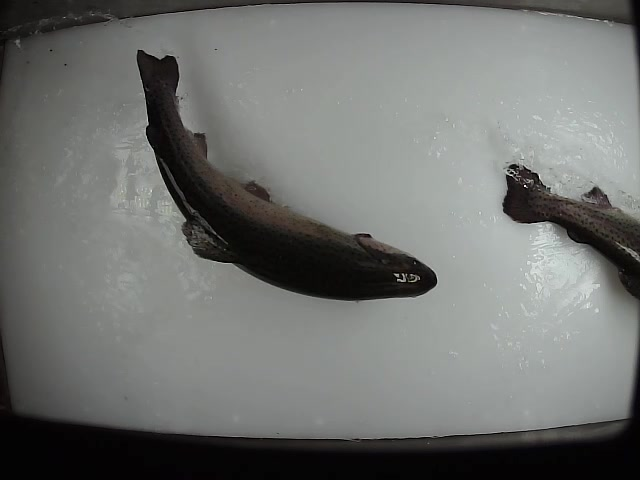fish: (133, 47, 440, 306), (501, 158, 640, 304)
